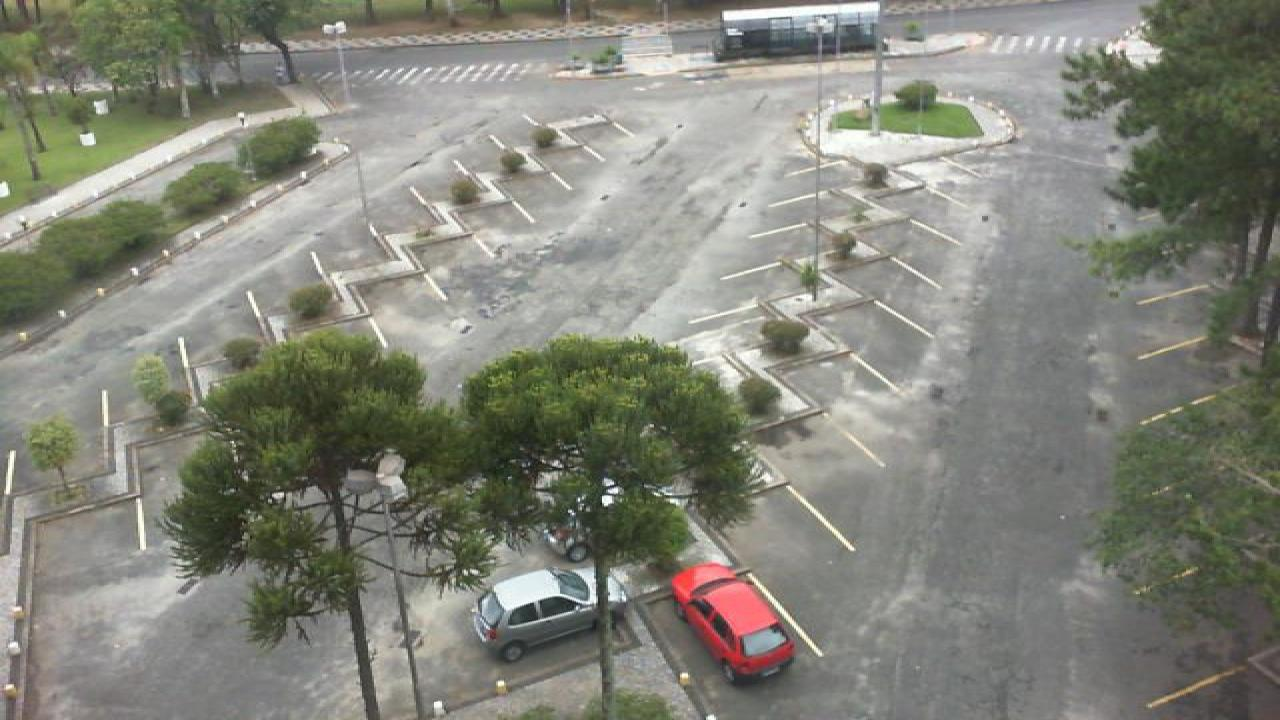Car: (470, 566, 632, 662), (670, 561, 796, 683)
